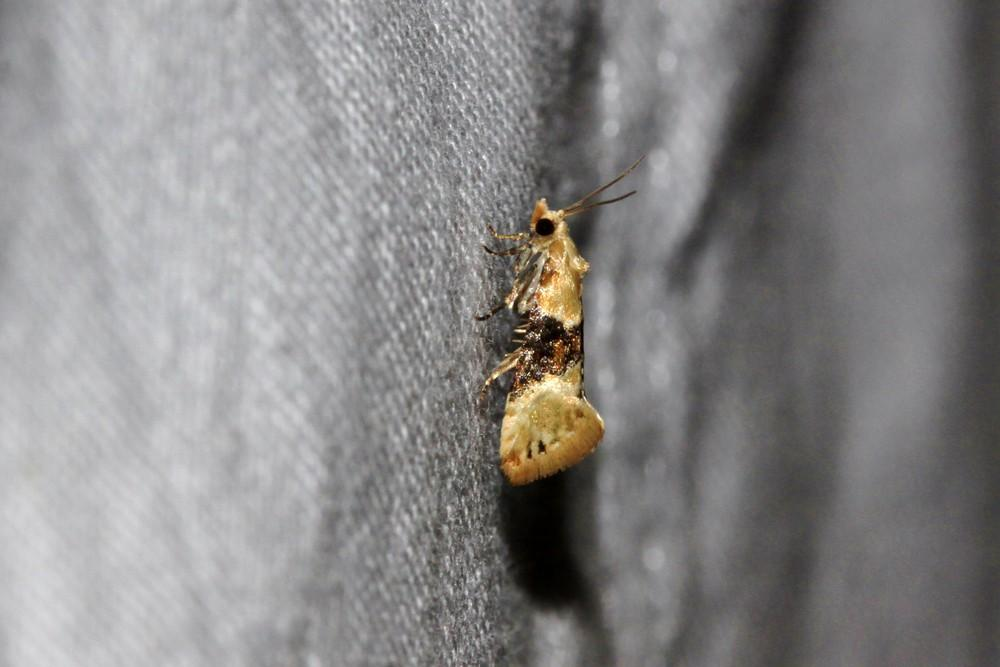Eupoecilia Ambiguella: (471, 152, 648, 489)
